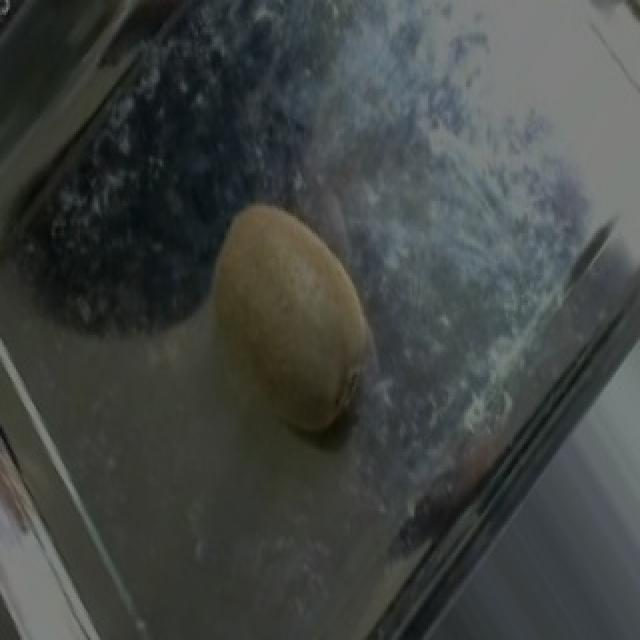Fruit: (184, 179, 410, 476)
